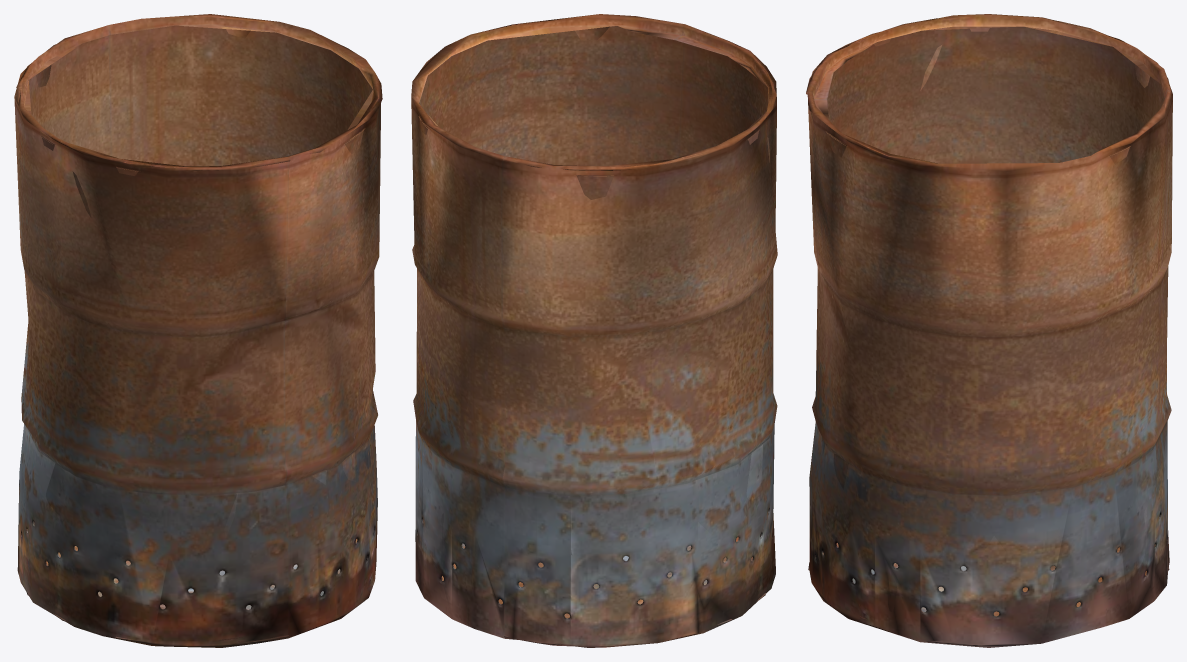
The model's file is barrelStove.glb.
3 renders of one model, left to right at view 1: azimuth 30°, elevation 25°; view 2: azimuth 150°, elevation 25°; view 3: azimuth 270°, elevation 25°, orthographic.
Parts seen in each view (by area): view 1: barrel_stove; view 2: barrel_stove; view 3: barrel_stove.
Boxes of the visible parts, x1,y1,x2,y2 form: barrel_stove: [14, 14, 382, 647]; barrel_stove: [411, 14, 777, 647]; barrel_stove: [806, 14, 1172, 647].
Bounding box in the file's own units: 0.5899 × 0.8556 × 0.5906.
Materials: 1 (1 with a texture image).
